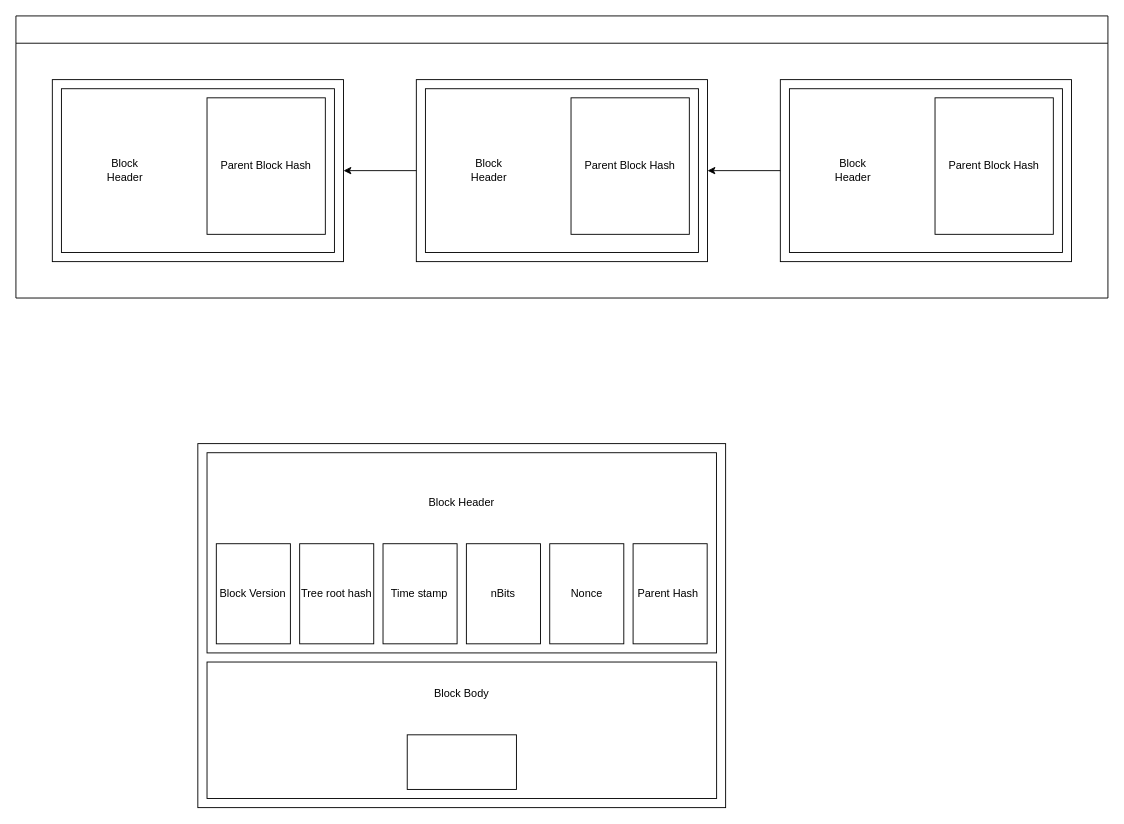
Image size: 1124x824. Some labels were removed from this diagram. The centre of each missing label's shape, as x and y in pixels:
"Block Chain" belongs at pixel 561 156.
"Vote" belongs at pixel 461 761.
